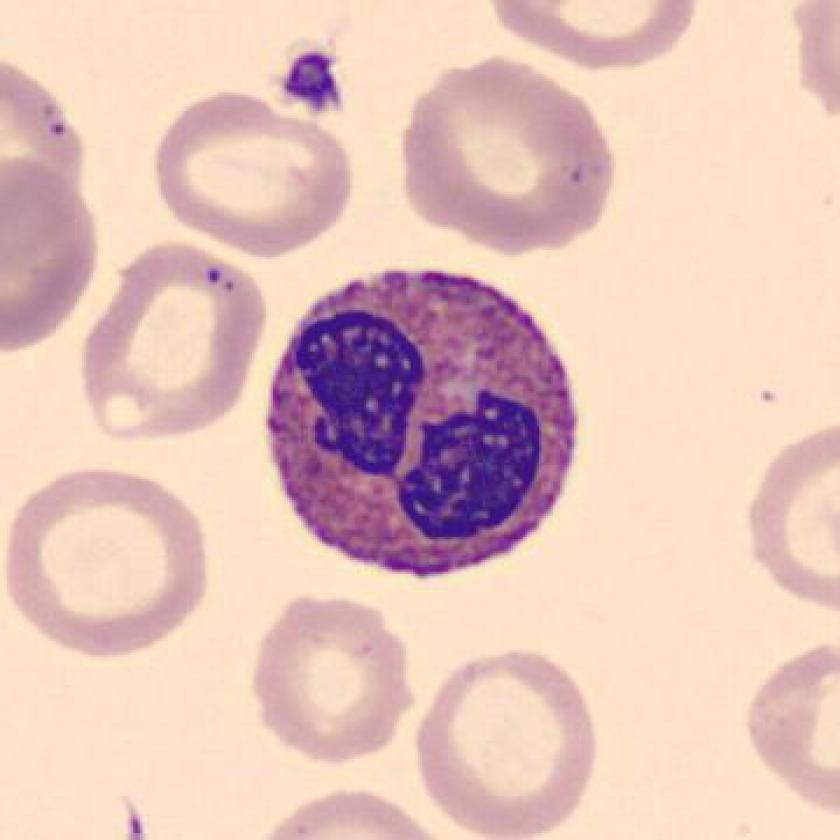eosinophil: (253, 258, 594, 589)
